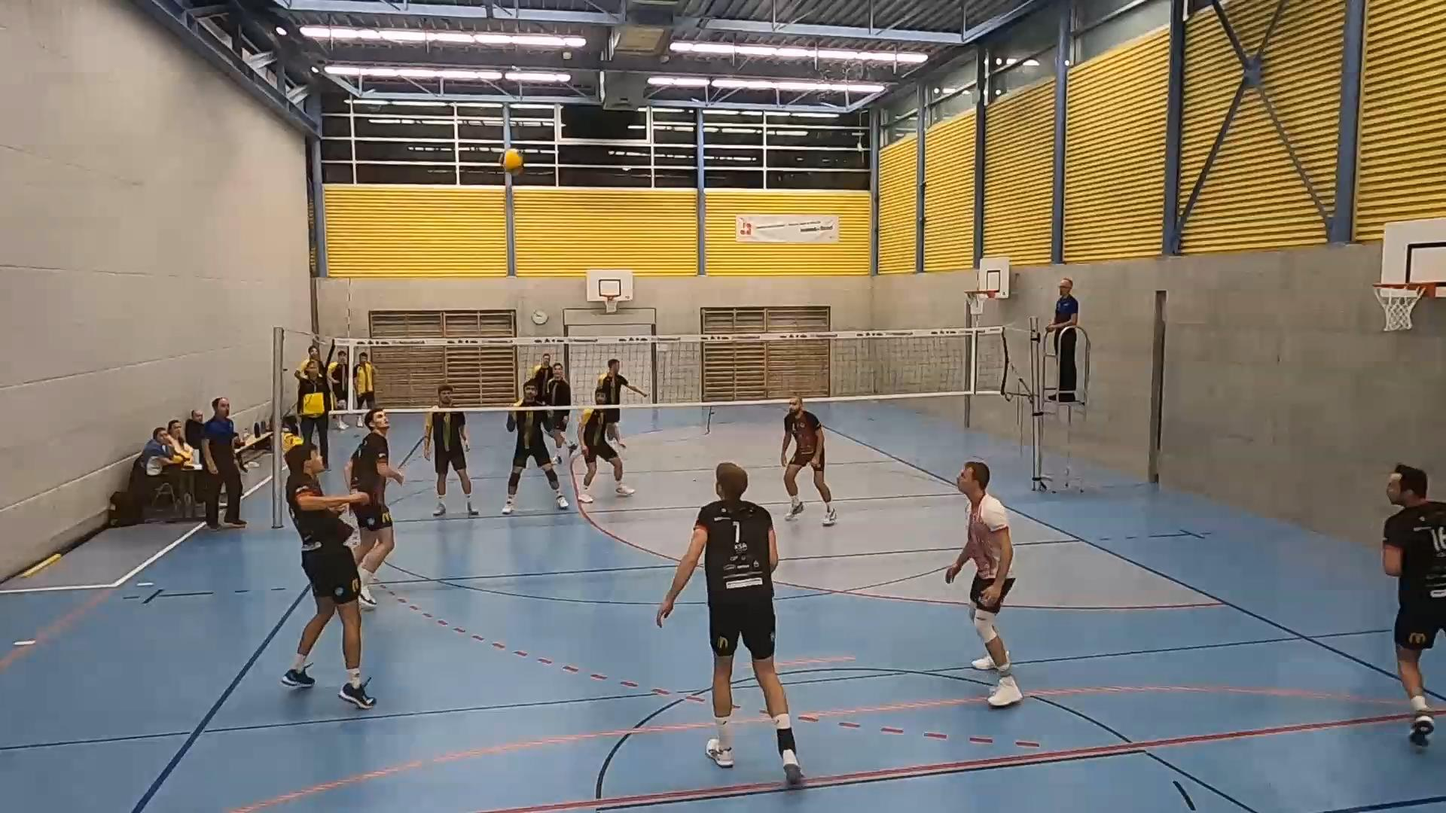Player: (656, 462, 802, 784), (945, 461, 1022, 707), (1383, 466, 1445, 746), (347, 408, 403, 608), (780, 395, 835, 525), (423, 384, 477, 516), (502, 409, 568, 514), (578, 391, 633, 503), (541, 362, 575, 464), (596, 358, 648, 406), (528, 353, 553, 398)
Receive: (287, 434, 372, 710)
ball: (498, 150, 525, 168)
